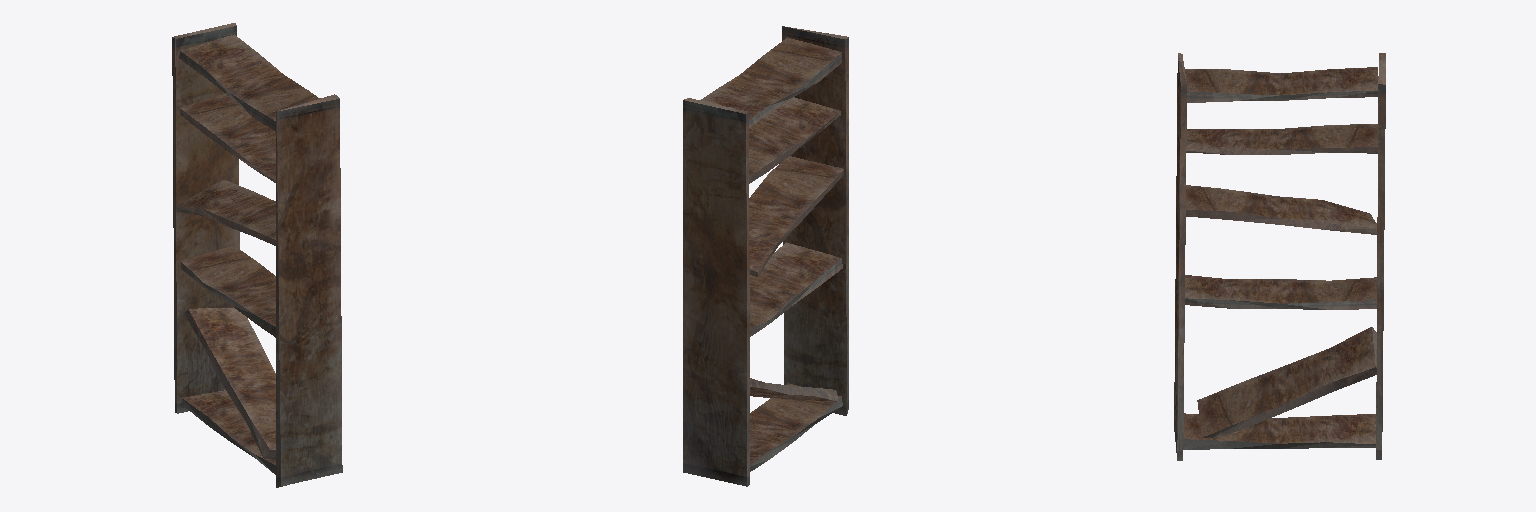
3 views of the same model, side by side, from view 1: azimuth 30°, elevation 25°; view 2: azimuth 150°, elevation 25°; view 3: azimuth 270°, elevation 25° (orthographic).
Parts seen in each view (by area): view 1: shelf; view 2: shelf; view 3: shelf.
Part boxes in pixels (x1,y1,x2,y2): shelf: (172, 23, 342, 487); shelf: (683, 26, 848, 486); shelf: (1174, 53, 1385, 460).
Bounding box in the file's own units: 0.4414 × 2.27 × 1.15.
Materials: 1 (1 with a texture image).